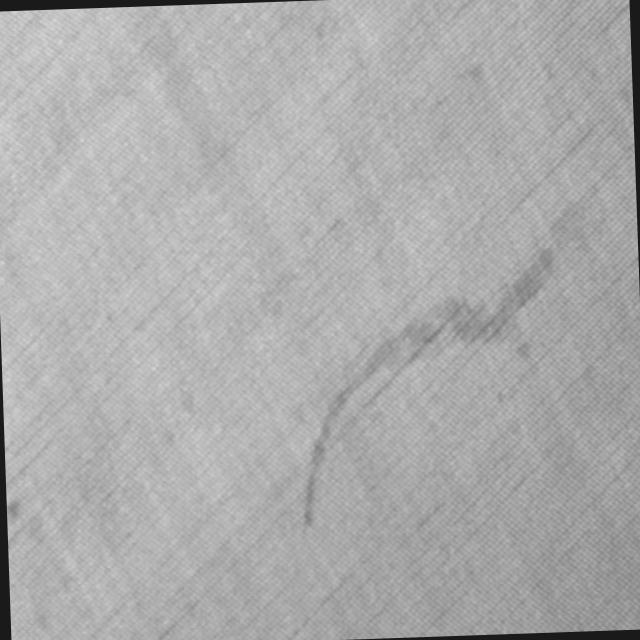oil spot: (290, 240, 566, 534)
